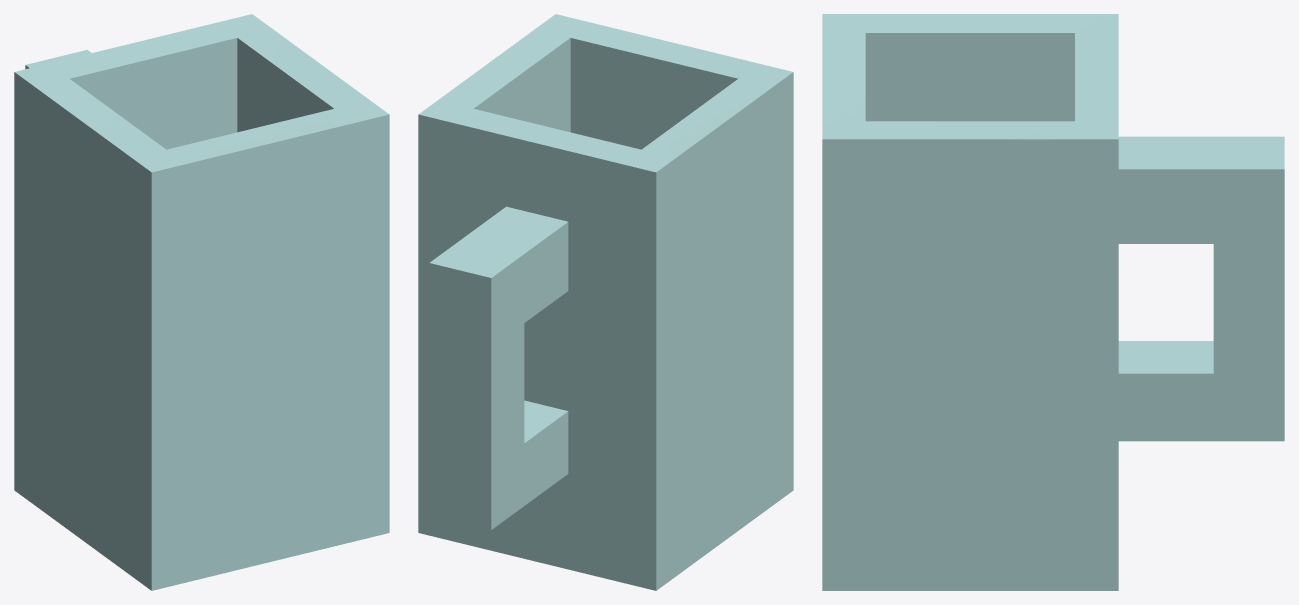
Rendered from BEVS.fbx.
3 views of the same model, side by side, from view 1: azimuth 30°, elevation 25°; view 2: azimuth 150°, elevation 25°; view 3: azimuth 270°, elevation 25° (orthographic). The views are drawn at different scales.
Parts seen in each view (by area): view 1: pCube1; view 2: pCube1; view 3: pCube1.
Boxes of the visible parts, left/top/right/bottom form: pCube1: left=14, top=14, right=389, bottom=590; pCube1: left=418, top=14, right=793, bottom=590; pCube1: left=822, top=14, right=1284, bottom=590.
Size of the model in its own units: 1e-05 by 1.68e-05 by 1.56e-05.
